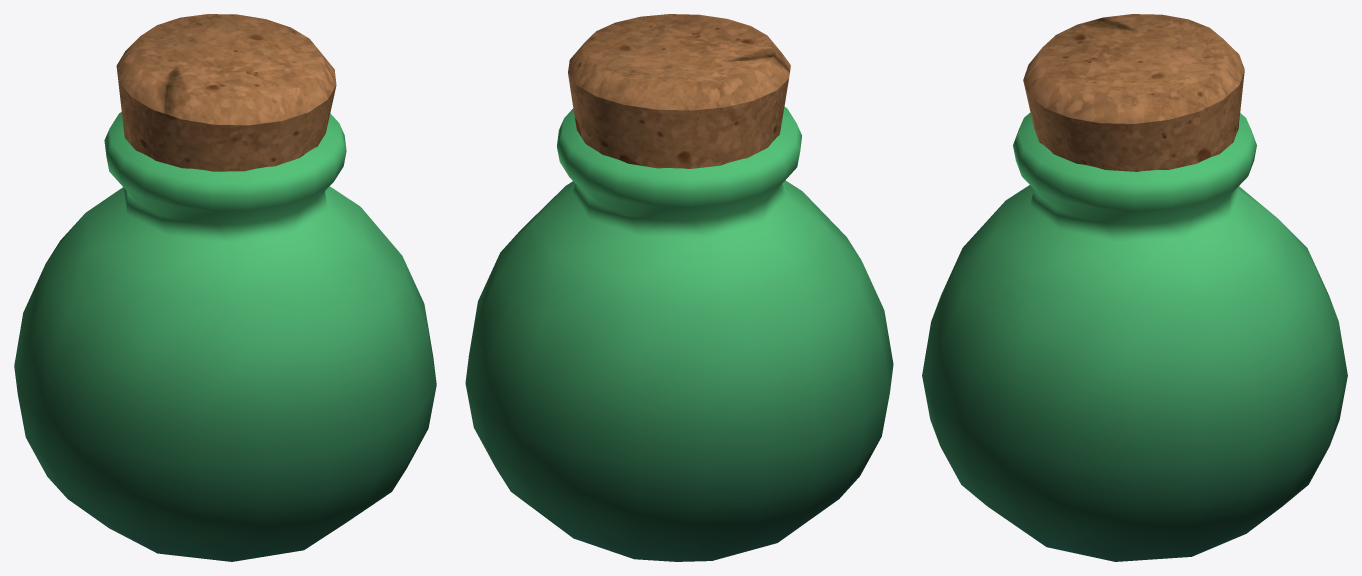
The model's file is SM_Potion_Props_Bottle_Tiny_01_A.fbx.
3 renders of one model, left to right at view 1: azimuth 30°, elevation 25°; view 2: azimuth 150°, elevation 25°; view 3: azimuth 270°, elevation 25°, orthographic.
Visible parts, largest first — view 1: SM_Potion_Props_Bottle_Tiny_01_A_LOD0; view 2: SM_Potion_Props_Bottle_Tiny_01_A_LOD0; view 3: SM_Potion_Props_Bottle_Tiny_01_A_LOD0.
Boxes of the visible parts, box(x1,y1,x2,y2) form: SM_Potion_Props_Bottle_Tiny_01_A_LOD0: box(14, 14, 436, 561); SM_Potion_Props_Bottle_Tiny_01_A_LOD0: box(465, 14, 893, 561); SM_Potion_Props_Bottle_Tiny_01_A_LOD0: box(922, 14, 1347, 561).
Size of what is drawn, in the model's own units: 7.1 by 9.12 by 7.1.
